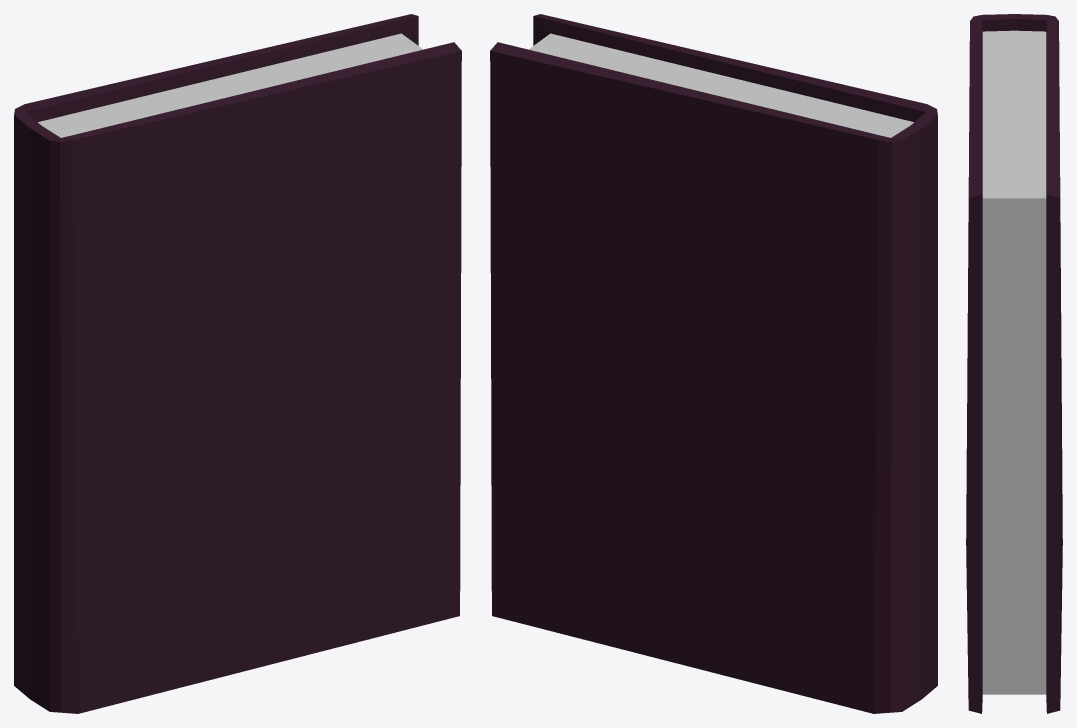
Rendered from Book_Violet.fbx.
3 views of the same model, side by side, from view 1: azimuth 30°, elevation 25°; view 2: azimuth 150°, elevation 25°; view 3: azimuth 270°, elevation 25° (orthographic). The views are drawn at different scales.
Visible parts, largest first — view 1: Book_Violet; view 2: Book_Violet; view 3: Book_Violet.
Part boxes in pixels (<box>): Book_Violet: <box>14,14,461,713</box>; Book_Violet: <box>490,14,937,713</box>; Book_Violet: <box>966,14,1062,713</box>.
Size of the model in its own units: 22.5 by 30.29 by 5.09.
